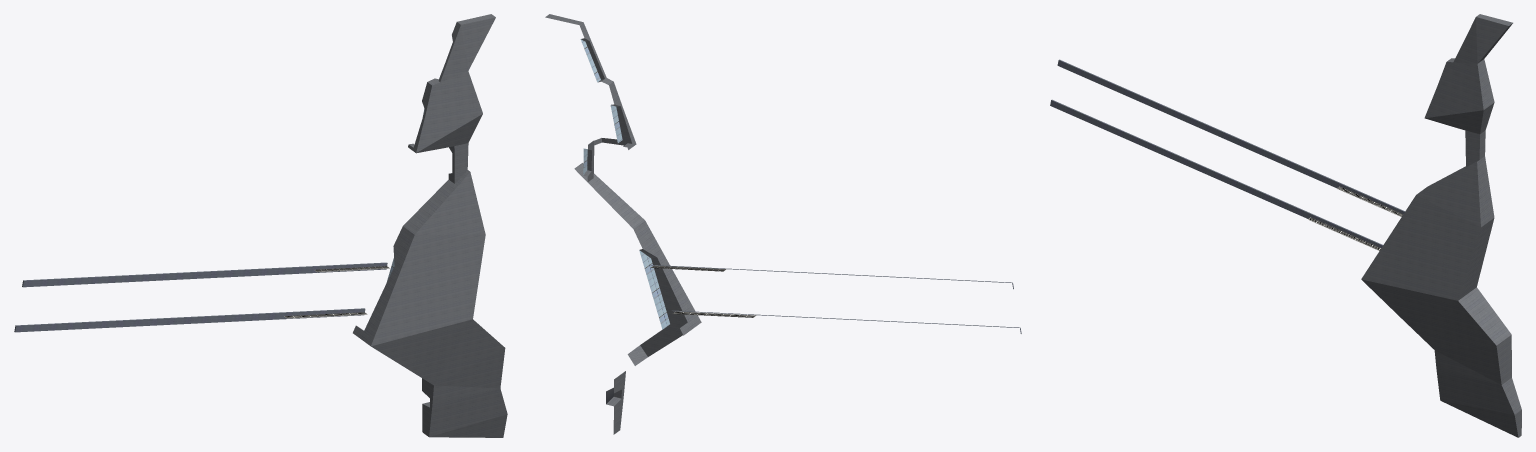
Rendered from sgy_xc_01.gltf.
The picture shows the model from 3 angles, left to right: view 1: azimuth 30°, elevation 25°; view 2: azimuth 150°, elevation 25°; view 3: azimuth 330°, elevation 25°; orthographic projection. The views are drawn at different scales.
Visible parts, largest first — view 1: Box002; view 2: Box002; view 3: Box002.
Boxes of the visible parts, x1,y1,x2,y2 form: Box002: (14,14,507,437); Box002: (545,14,1021,434); Box002: (1050,14,1521,437).
Bounding box in the file's own units: 123 × 103 × 8.56.
Materials: 4 (4 with a texture image).
